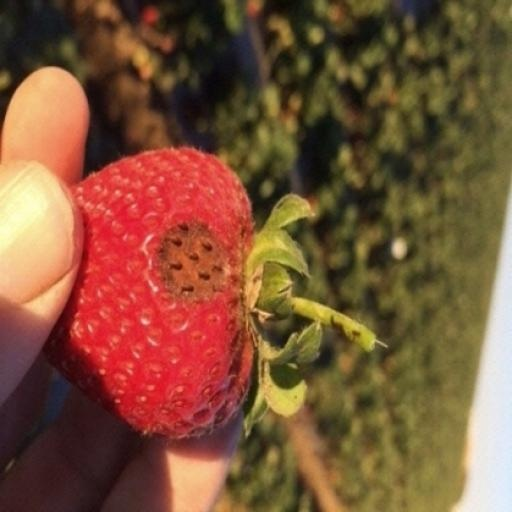Anthracnose Fruit Rot: (279, 209, 365, 291)
